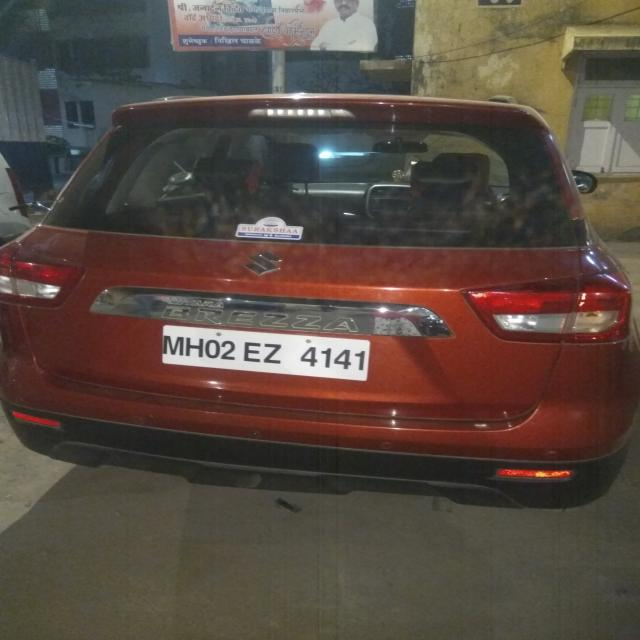Number-Plate: (155, 327, 376, 376)
